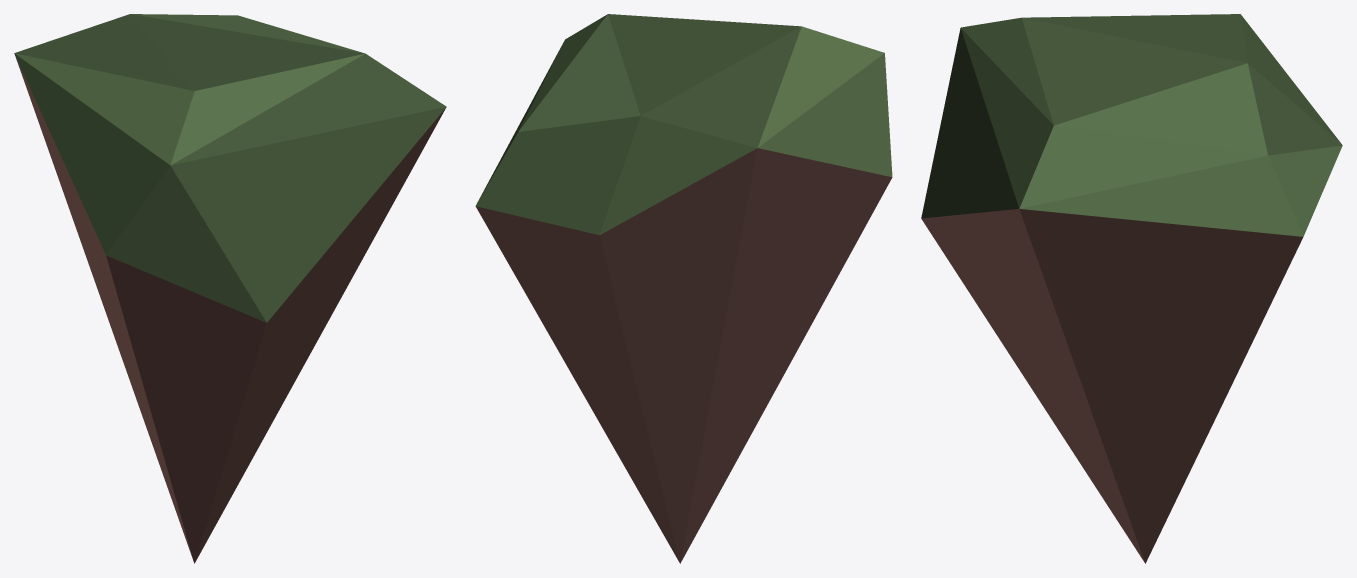
Rendered from PalmTree_4.lod4.glb.
3 renders of one model, left to right at view 1: azimuth 30°, elevation 25°; view 2: azimuth 150°, elevation 25°; view 3: azimuth 270°, elevation 25°, orthographic. The views are drawn at different scales.
Parts seen in each view (by area): view 1: PalmTree_4; view 2: PalmTree_4; view 3: PalmTree_4.
Part boxes in pixels (box(x1,y1,x2,y2)): PalmTree_4: box(14, 14, 446, 563); PalmTree_4: box(475, 14, 892, 563); PalmTree_4: box(921, 14, 1342, 563).
Bounding box in the file's own units: 2.36 × 3.51 × 2.6.
